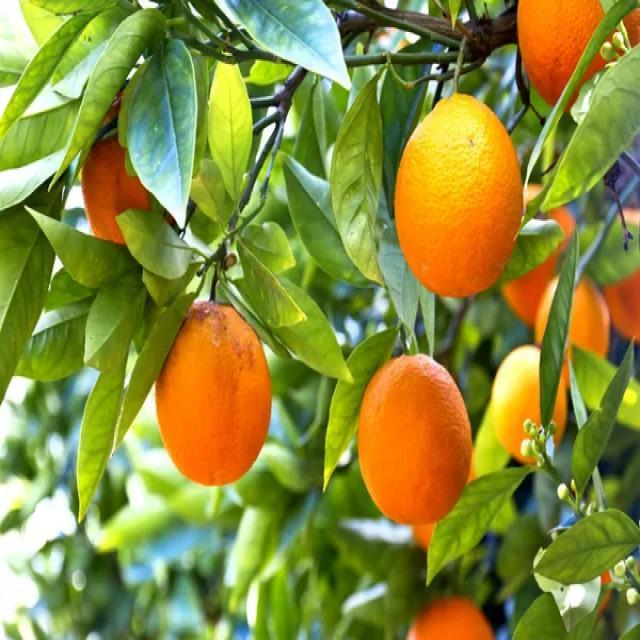Jeruk Sudah Matang: (393, 94, 525, 301), (154, 301, 273, 490), (357, 355, 474, 533), (511, 0, 640, 118), (486, 340, 570, 467), (393, 576, 499, 640)
